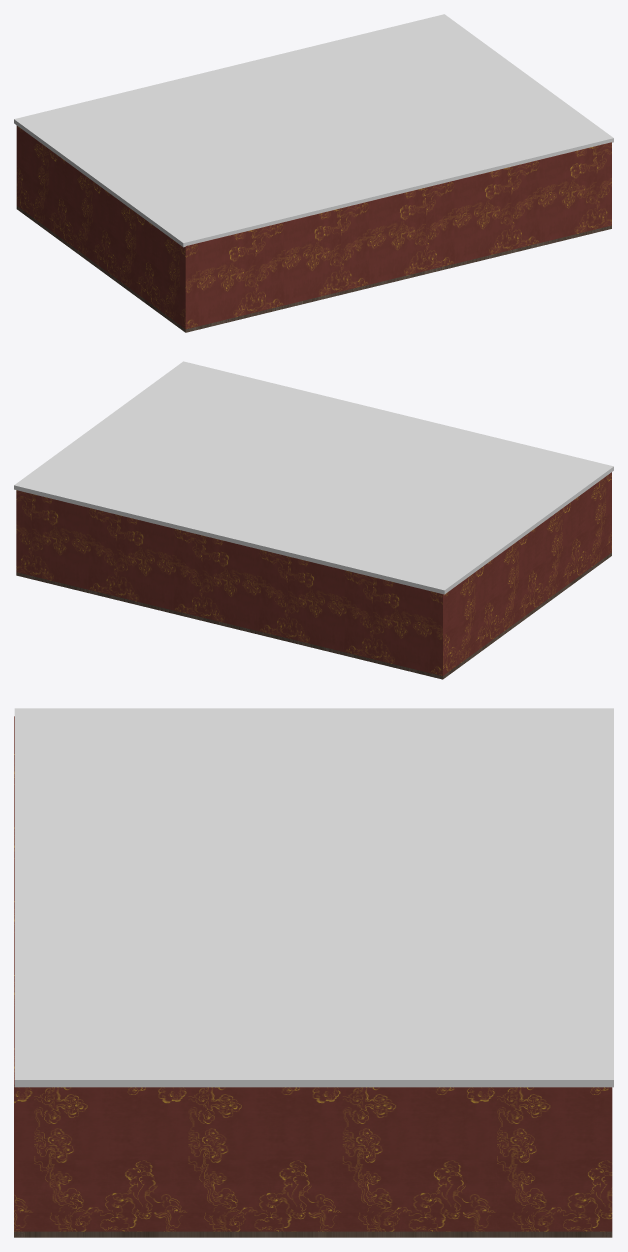
Rendered from gallery5.glb.
The picture shows the model from 3 angles, top to bottom: view 1: azimuth 30°, elevation 25°; view 2: azimuth 150°, elevation 25°; view 3: azimuth 270°, elevation 25°; orthographic projection. The views are drawn at different scales.
Visible parts, largest first — view 1: ceiling, walls; view 2: ceiling, walls; view 3: ceiling, walls.
Boxes of the visible parts, <box> form: ceiling: <box>14,14,613,247</box>; walls: <box>16,125,611,332</box>; ceiling: <box>14,361,613,594</box>; walls: <box>16,472,611,679</box>; ceiling: <box>14,708,613,1087</box>; walls: <box>14,716,612,1237</box>.
Bounding box in the file's own units: 29.39 × 5.87 × 20.05.
3 materials, 2 textured.
